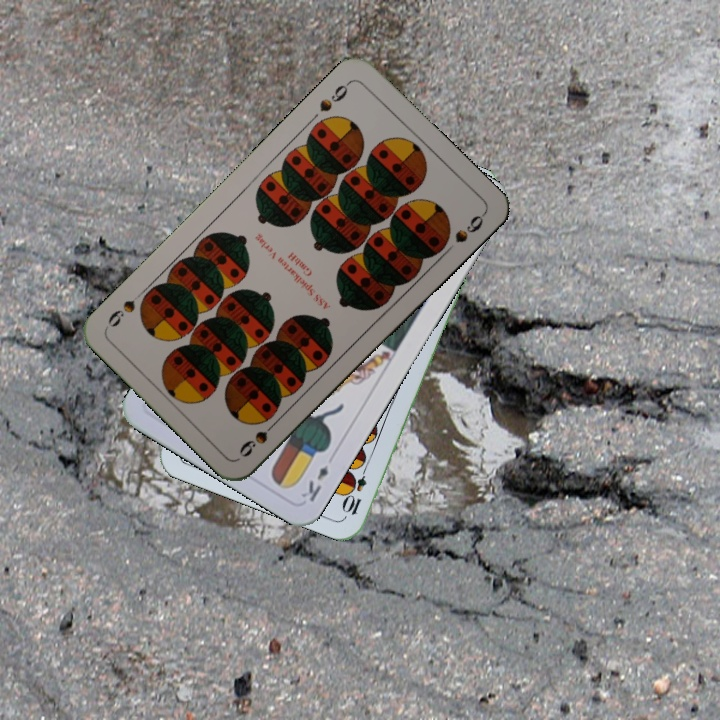E10: (340, 459, 371, 518)
EK: (297, 461, 331, 505)
S9: (235, 414, 282, 460), (315, 77, 354, 115)
